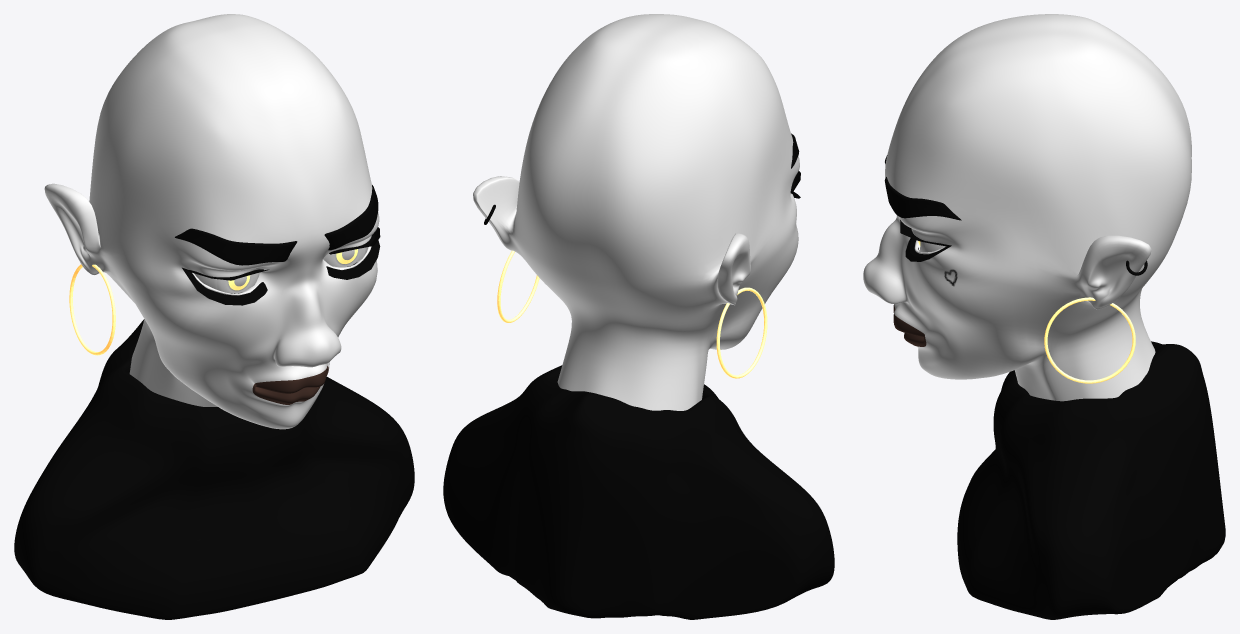
File: monocromatica-uv.glb
The picture shows the model from 3 angles, left to right: view 1: azimuth 30°, elevation 25°; view 2: azimuth 150°, elevation 25°; view 3: azimuth 270°, elevation 25°; orthographic projection. The views are drawn at different scales.
Visible parts, largest first — view 1: Monocromatico, corpo, Sombrancelha, cilios, Olho.interno, Brinco; view 2: Monocromatico, corpo, Brinco; view 3: Monocromatico, corpo, Sombrancelha, Brinco, cilios.
Part boxes in pixels (x1,y1,x2,y2): Monocromatico: (44,14,379,429); corpo: (14,319,414,619); Sombrancelha: (175,185,378,265); cilios: (182,227,380,305); Olho.interno: (194,247,368,293); Brinco: (69,264,115,355); Monocromatico: (473,14,799,410); corpo: (443,365,834,619); Brinco: (497,250,767,378); Monocromatico: (863,14,1191,401); corpo: (957,341,1225,619); Sombrancelha: (884,155,961,220); Brinco: (1044,297,1135,383); cilios: (900,219,951,261).
Bounding box in the file's own units: 3.36 × 4.5 × 2.82.
Materials: 7 (1 with a texture image).
